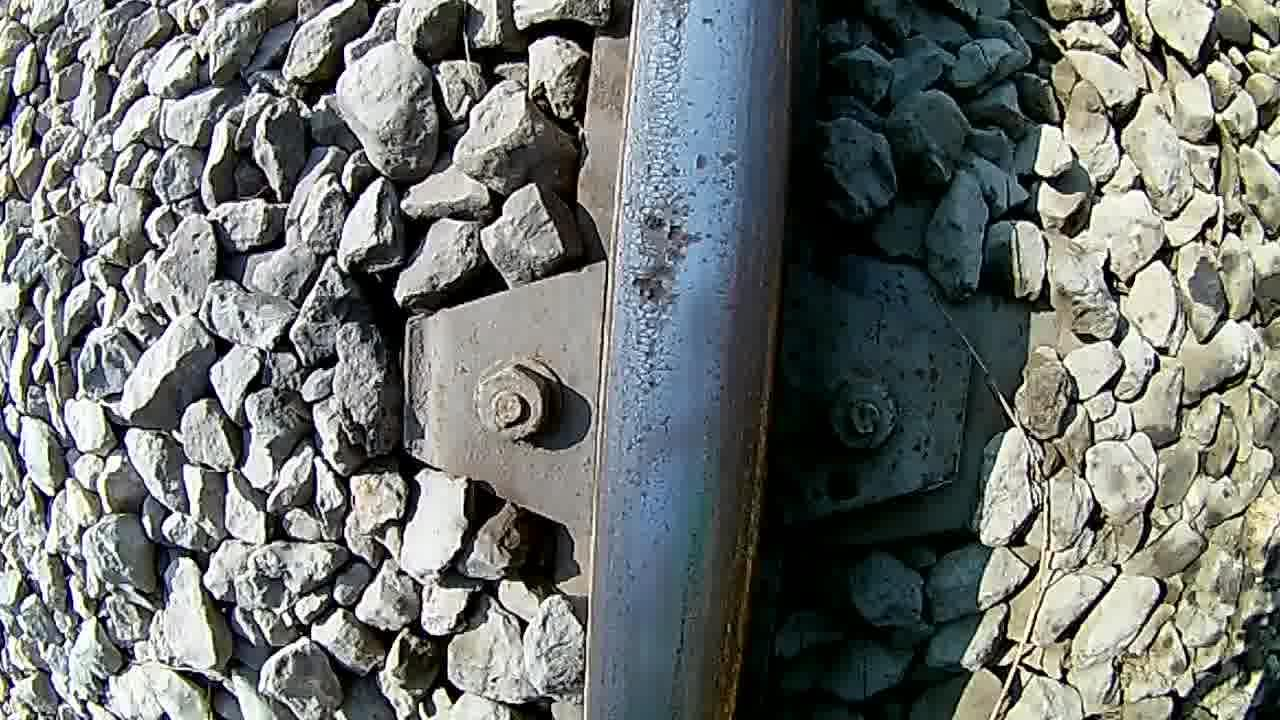crack: (595, 0, 797, 720)
